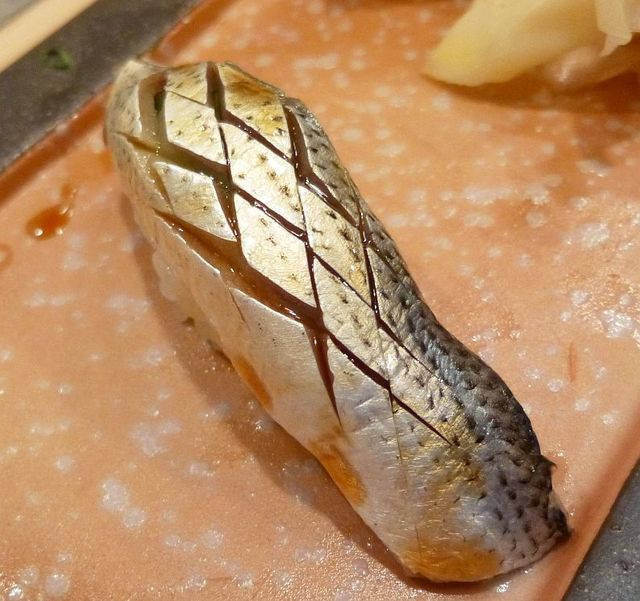spotted-shad: (104, 57, 579, 588)
